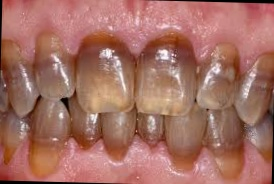Tooth Discoloration: (0, 24, 274, 183)
